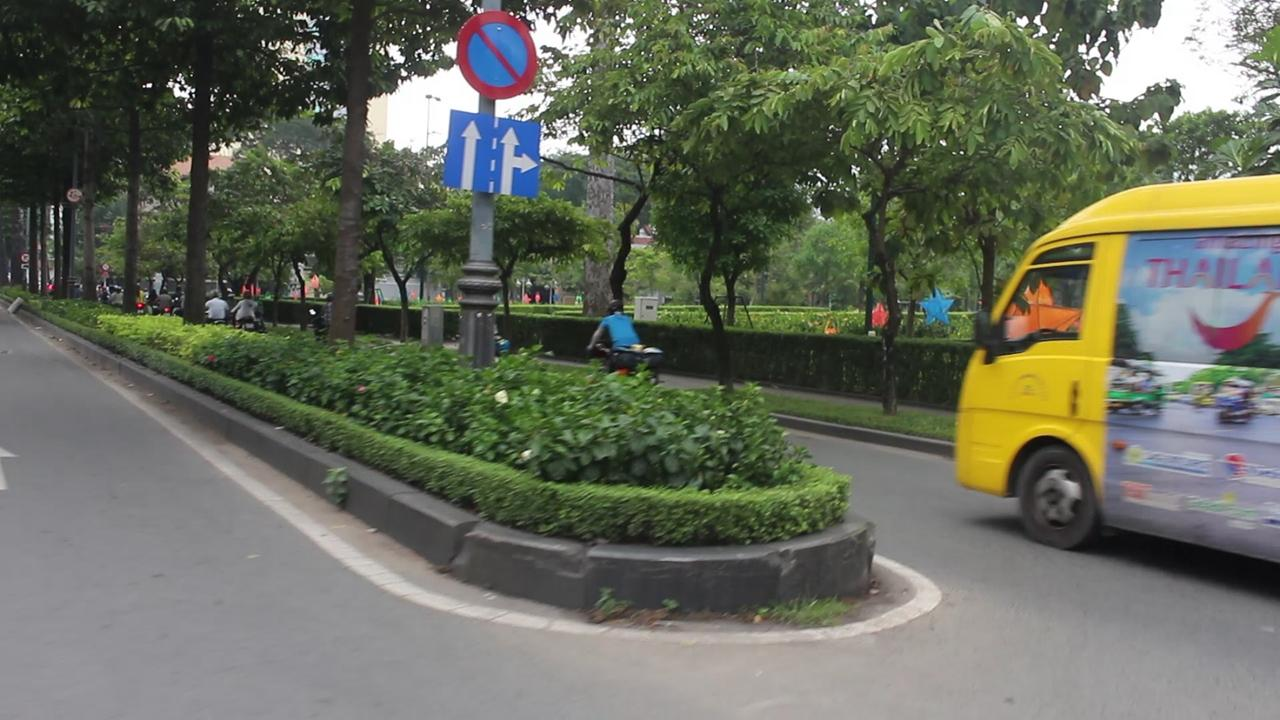P.102: (459, 10, 538, 98)
P.124c: (448, 112, 492, 193)
